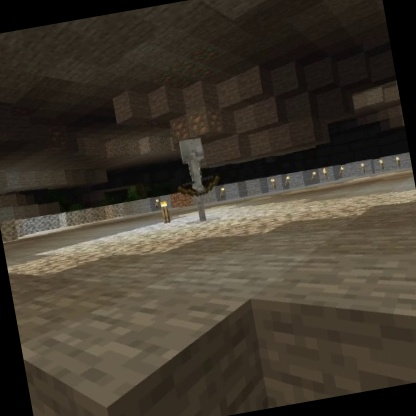skeleton: (165, 130, 230, 227)
